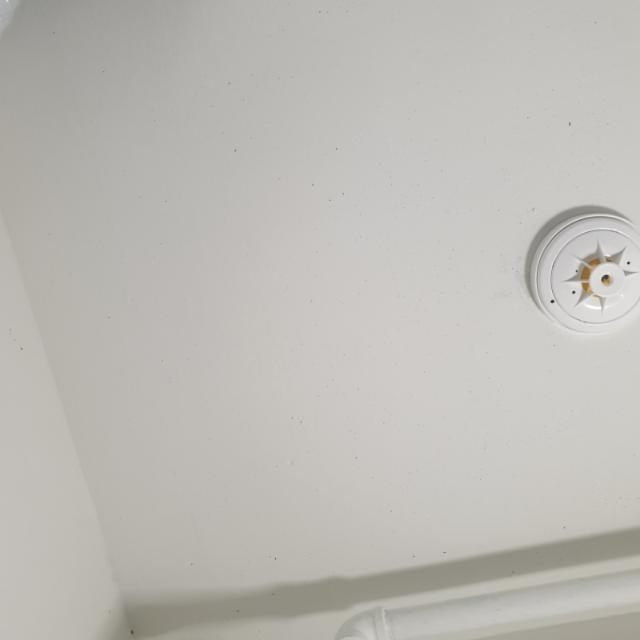Smoke-Detector: (530, 210, 640, 340)
